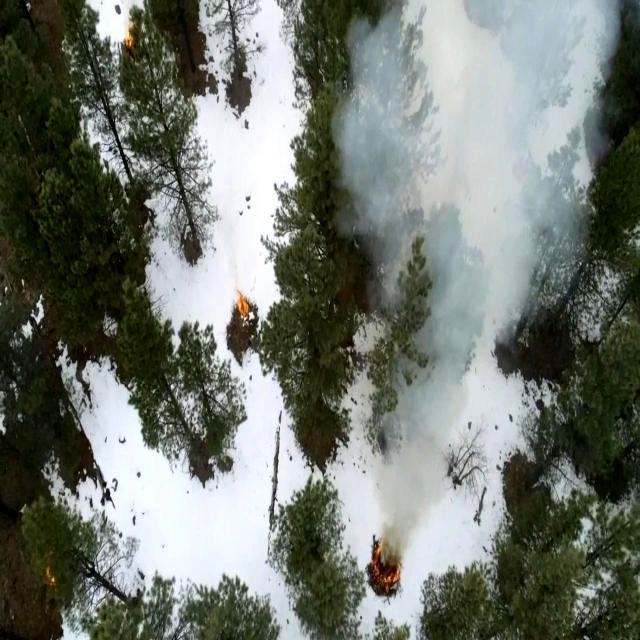Fire: (236, 292, 252, 333)
Smoke: (324, 0, 566, 295), (364, 306, 474, 530)
